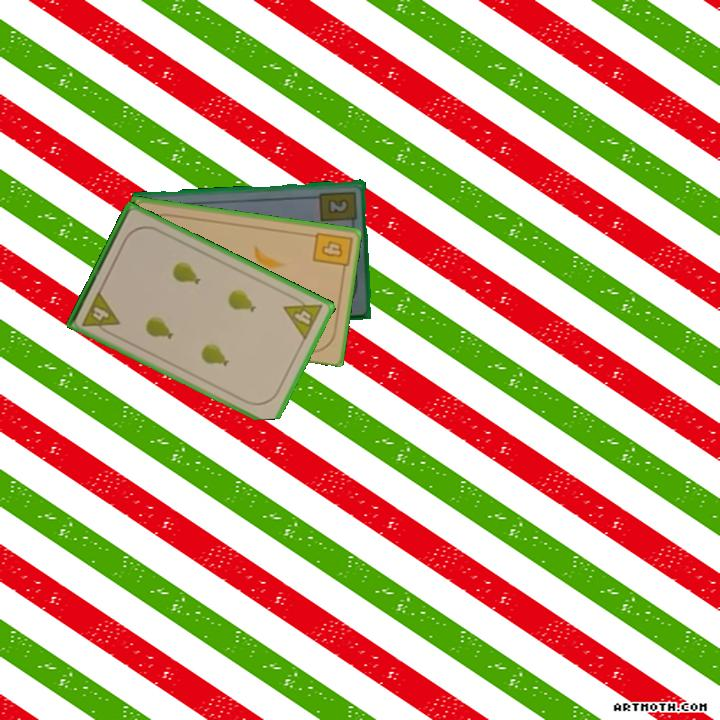2b: (316, 187, 360, 229)
4b: (309, 228, 354, 275)
4p: (280, 291, 325, 343), (79, 287, 123, 338)
